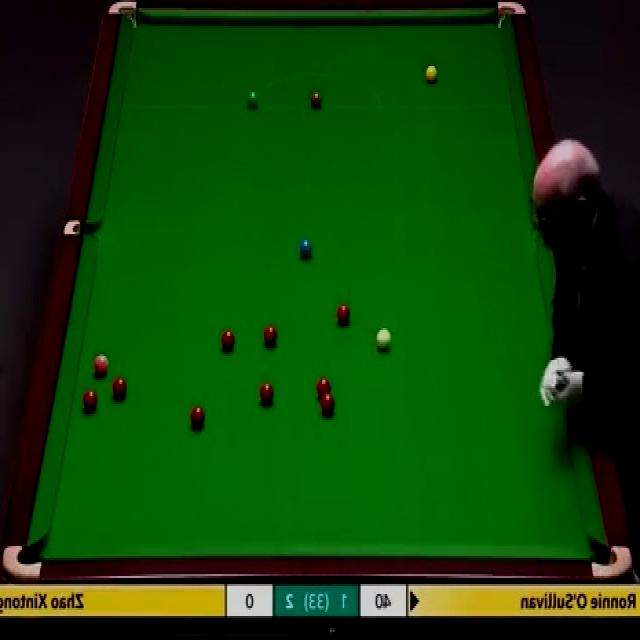blue-ball: (299, 236, 312, 262)
brown-ball: (309, 91, 323, 109)
green-ball: (245, 88, 260, 110)
pink-ball: (92, 354, 110, 374)
red-ball: (320, 392, 336, 417), (190, 405, 206, 429), (260, 382, 275, 406), (82, 388, 98, 410), (316, 376, 332, 398), (265, 326, 279, 350), (220, 328, 234, 352), (112, 376, 128, 397), (338, 302, 351, 325)
white-ball: (376, 326, 393, 354)
yellow-ball: (425, 66, 437, 85)
